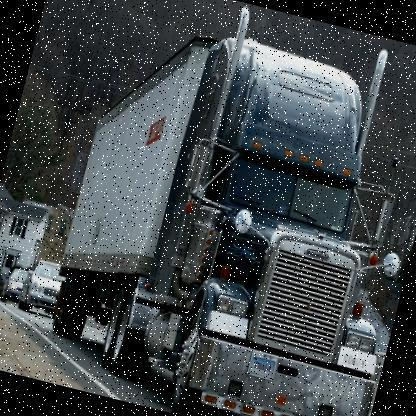License-Plate: (246, 350, 281, 383)
